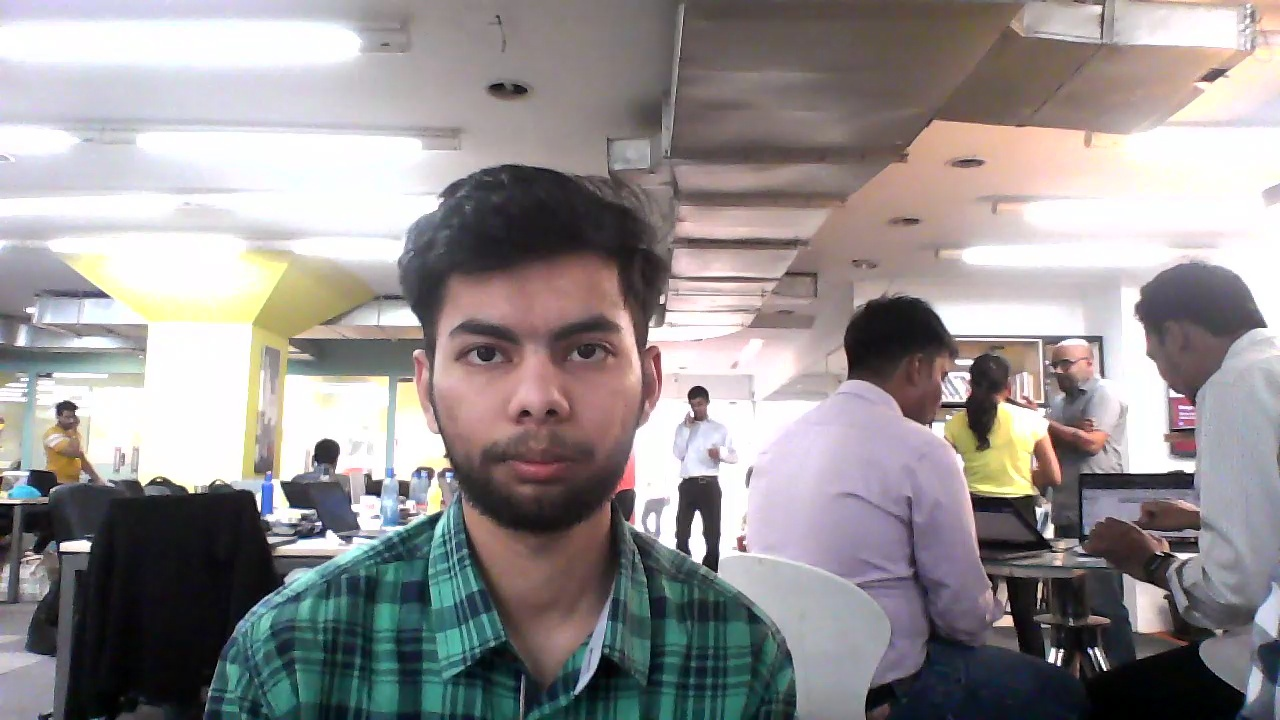open: (394, 162, 657, 533)
